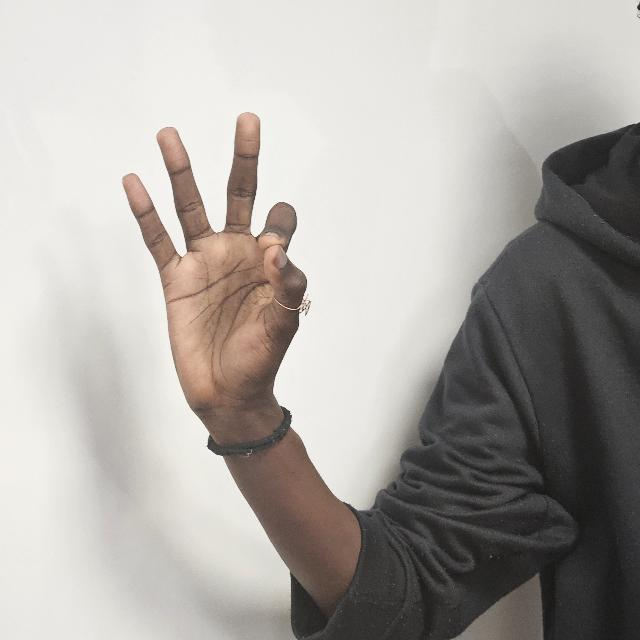Bolinha: (116, 108, 312, 420)
